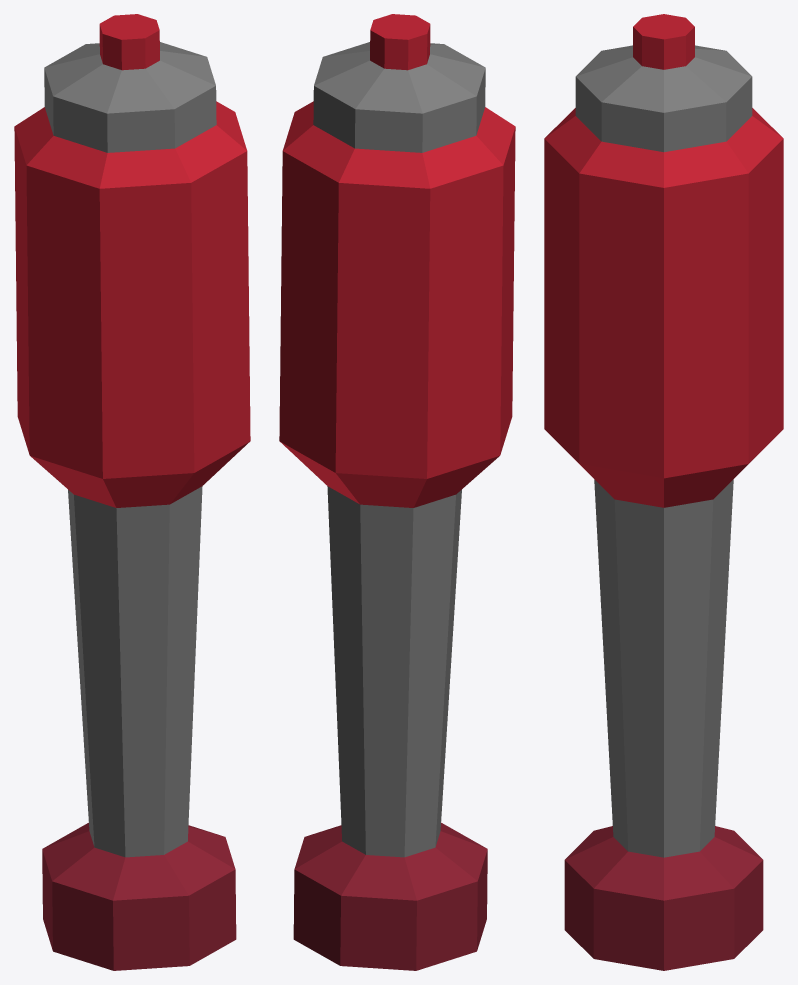
The model's file is Weapon_HedgehogAmmo.obj.
3 views of the same model, side by side, from view 1: azimuth 30°, elevation 25°; view 2: azimuth 150°, elevation 25°; view 3: azimuth 270°, elevation 25° (orthographic).
Visible parts, largest first — view 1: HedgehogAmmo; view 2: HedgehogAmmo; view 3: HedgehogAmmo.
Part boxes in pixels (bbox=[...]): HedgehogAmmo: bbox=[14, 14, 250, 970]; HedgehogAmmo: bbox=[279, 14, 515, 970]; HedgehogAmmo: bbox=[544, 14, 783, 970].
Size of the model in its own units: 0.1047 by 0.4276 by 0.1031.
Materials: 1 (1 with a texture image).
